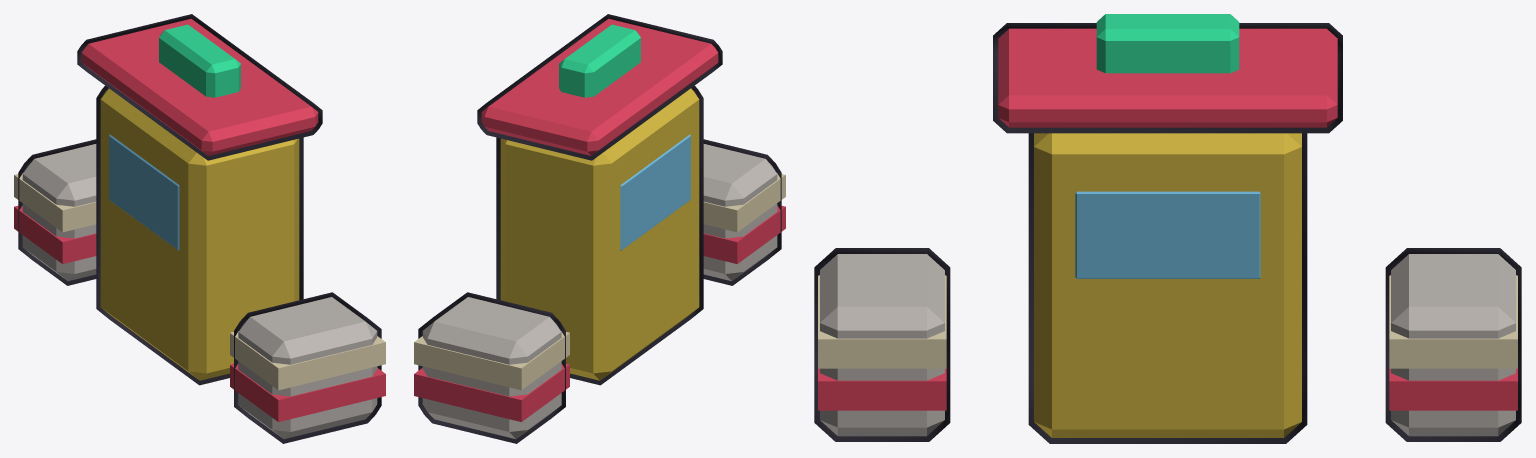
File: toll_booth.glb
The picture shows the model from 3 angles, left to right: view 1: azimuth 30°, elevation 25°; view 2: azimuth 150°, elevation 25°; view 3: azimuth 270°, elevation 25°; orthographic projection. The views are drawn at different scales.
Visible parts, largest first — view 1: toll_booth; view 2: toll_booth; view 3: toll_booth.
Boxes of the visible parts, box(x1,y1,x2,y2) form: toll_booth: box(14, 14, 385, 443); toll_booth: box(414, 14, 785, 443); toll_booth: box(814, 14, 1521, 443).
Bounding box in the file's own units: 1.06 × 2.43 × 3.96.
